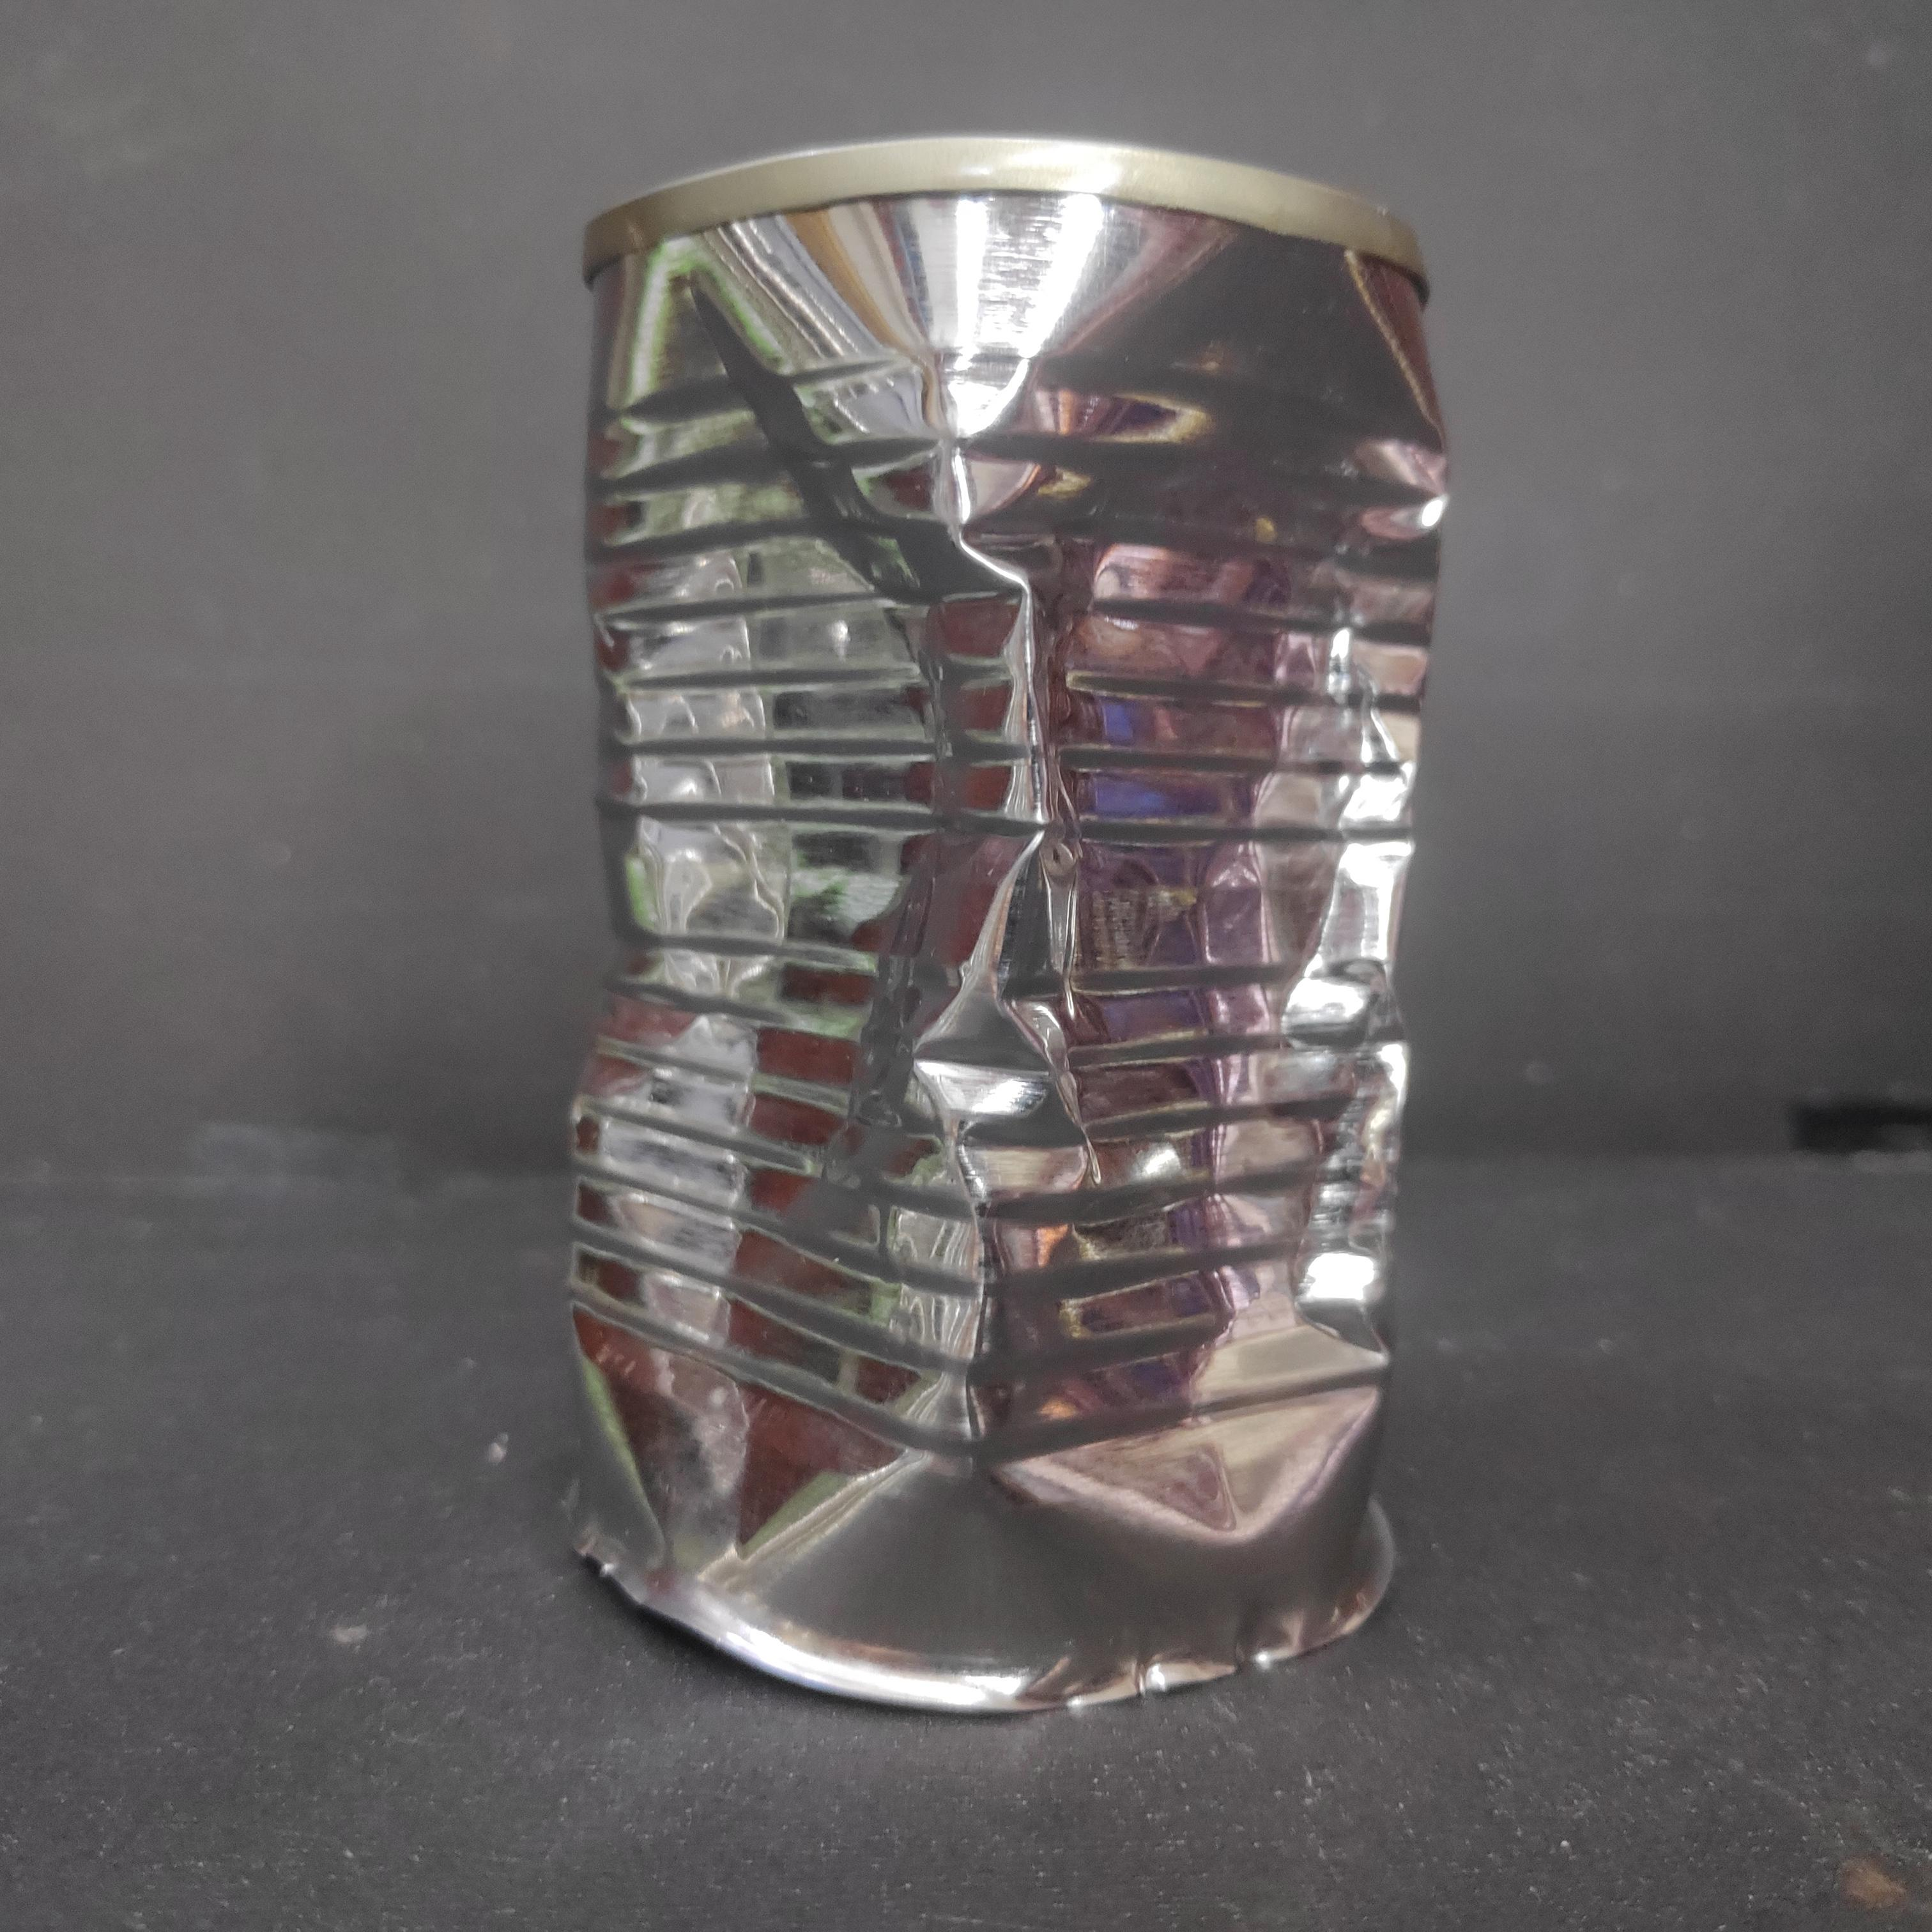Major Defect: (541, 115, 1470, 1743)
